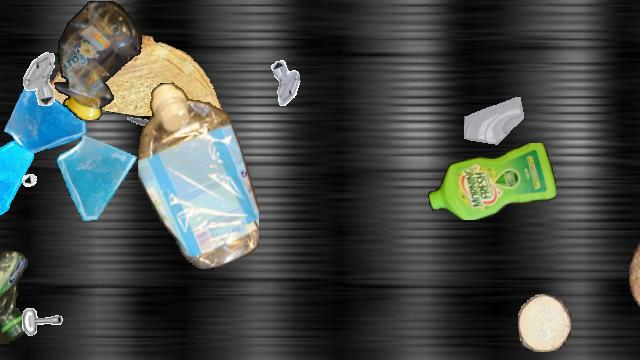glass: (51, 133, 143, 225), (3, 76, 91, 164), (464, 96, 526, 158), (0, 137, 34, 215)
metal: (9, 50, 67, 108), (16, 303, 72, 359), (264, 57, 312, 105), (122, 104, 166, 148), (19, 156, 57, 194)
plastic: (138, 81, 258, 269), (53, 1, 143, 119), (428, 143, 556, 219), (0, 249, 29, 359)
wood: (47, 35, 233, 115), (518, 294, 570, 352), (629, 216, 640, 326)
